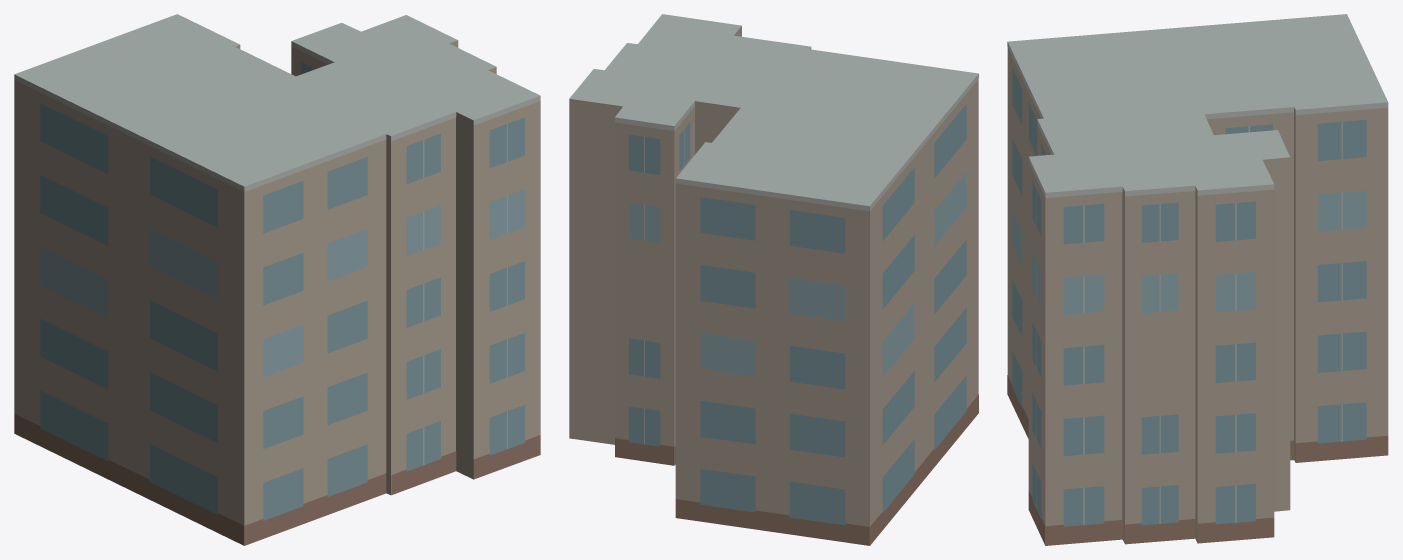
Rendered from survey-upis-32871608.glb.
The picture shows the model from 3 angles, left to right: view 1: azimuth 30°, elevation 25°; view 2: azimuth 150°, elevation 25°; view 3: azimuth 270°, elevation 25°; orthographic projection. The views are drawn at different scales.
Visible parts, largest first — view 1: survey-upis-32871608.tmp; view 2: survey-upis-32871608.tmp; view 3: survey-upis-32871608.tmp.
Part boxes in pixels (box(x1,y1,x2,y2)): survey-upis-32871608.tmp: box(14, 14, 540, 545); survey-upis-32871608.tmp: box(569, 14, 978, 545); survey-upis-32871608.tmp: box(1007, 14, 1388, 545).
Size of the model in its own units: 17.83 by 16.4 by 16.04.
